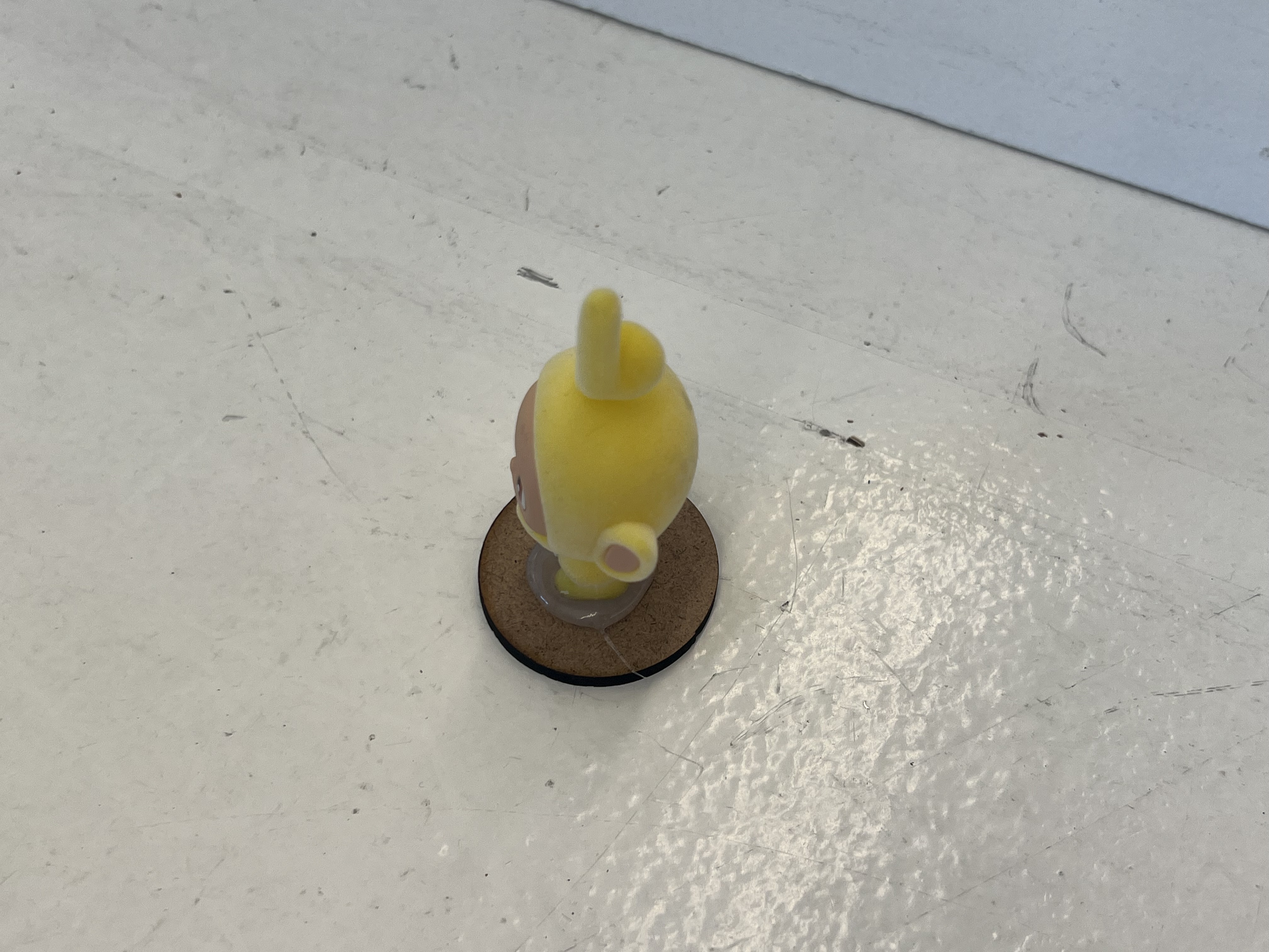teletubby: (511, 289, 697, 598)
